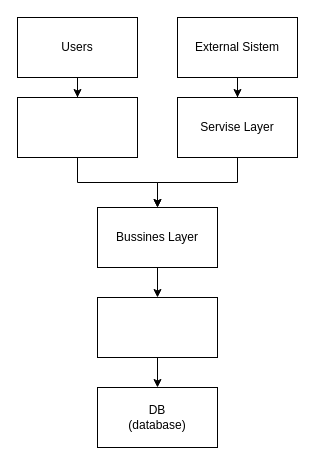
The diagram is 315 pixels wide and 465 high, and some of its shapes have lost their labels. The shapes that lost their labels are listed below. From the top down, each one's box as (x1, y1, x2, y2) in pixels, then its label:
(16, 96, 138, 158): Presentation Layer
(96, 296, 218, 358): Data Layer
